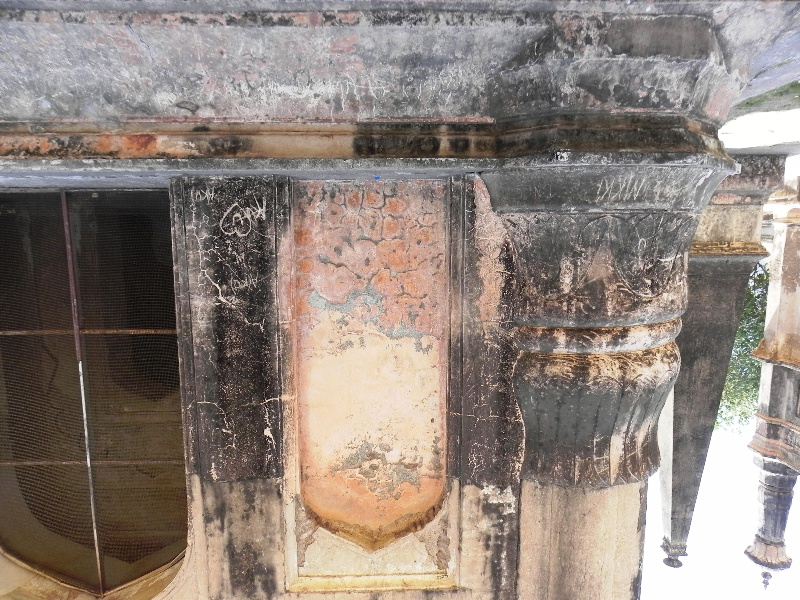Spalling: (302, 271, 384, 320)
